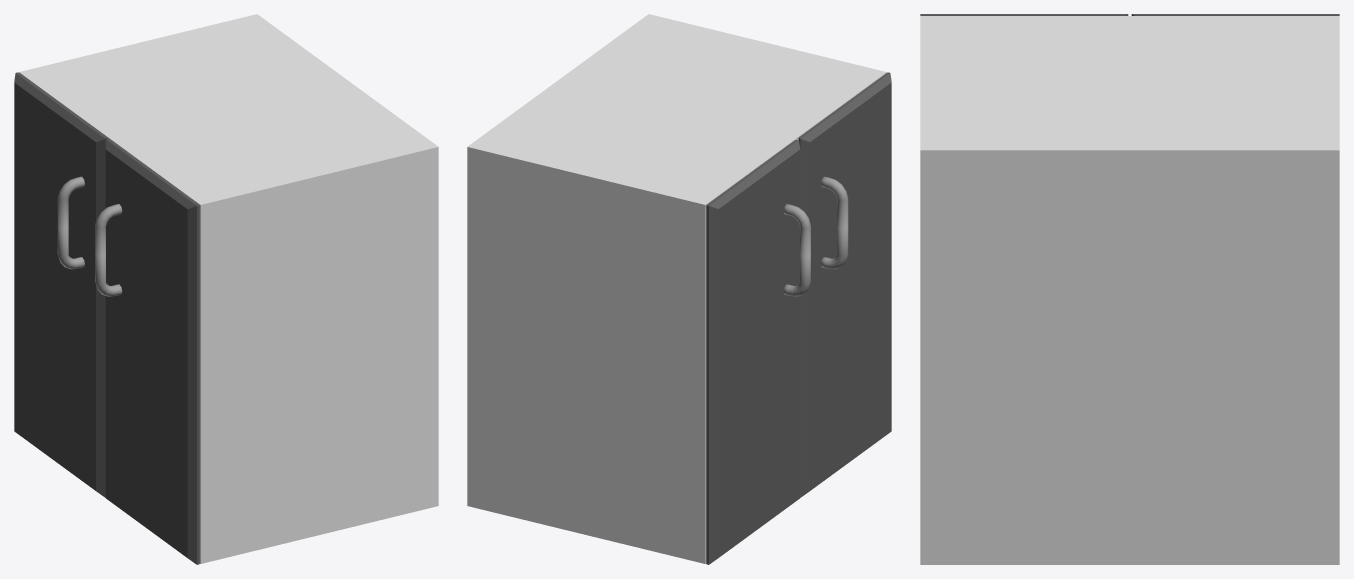
File: Mutfak_Dolap_Alt_2.fbx
3 views of the same model, side by side, from view 1: azimuth 30°, elevation 25°; view 2: azimuth 150°, elevation 25°; view 3: azimuth 270°, elevation 25° (orthographic). The views are drawn at different scales.
Parts seen in each view (by area): view 1: Cube.003; view 2: Cube.003; view 3: Cube.003.
Boxes of the visible parts, left/top/right/bottom form: Cube.003: left=14, top=14, right=438, bottom=564; Cube.003: left=467, top=14, right=891, bottom=564; Cube.003: left=920, top=14, right=1339, bottom=564.
Size of the model in its own units: 87.99 by 111 by 102.
